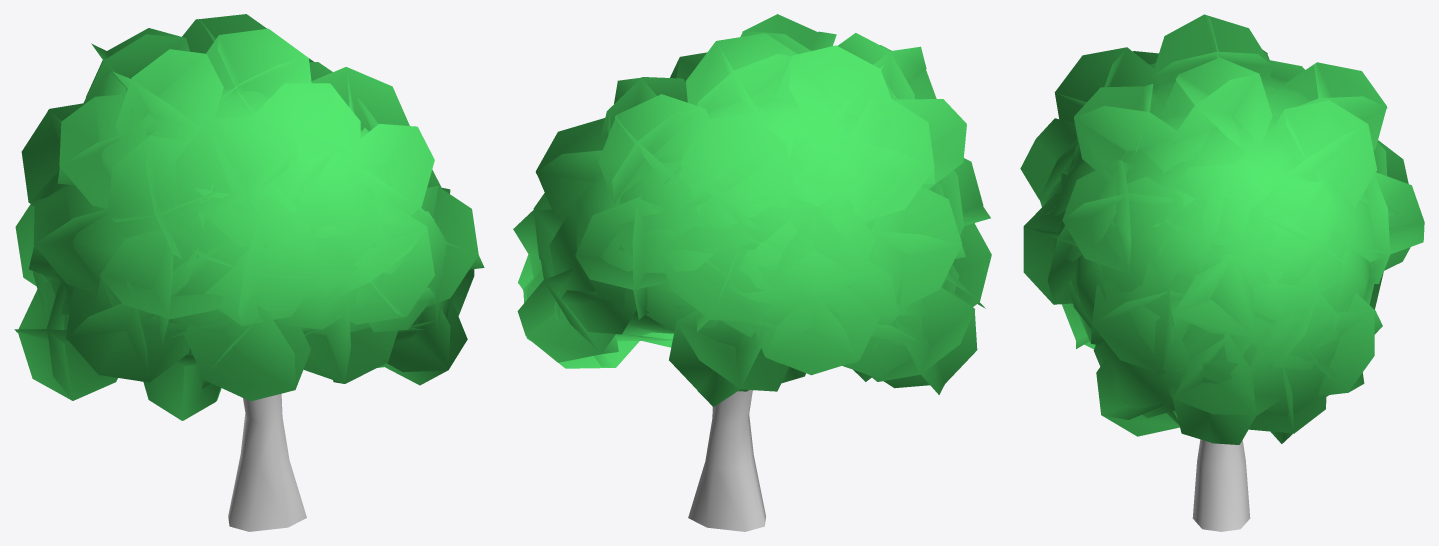
The model's file is Oak_C_1.fbx.
3 views of the same model, side by side, from view 1: azimuth 30°, elevation 25°; view 2: azimuth 150°, elevation 25°; view 3: azimuth 270°, elevation 25° (orthographic). The views are drawn at different scales.
Visible parts, largest first — view 1: Oak_C_1; view 2: Oak_C_1; view 3: Oak_C_1.
Boxes of the visible parts, bbox=[...] form: Oak_C_1: bbox=[14, 14, 484, 531]; Oak_C_1: bbox=[513, 14, 991, 531]; Oak_C_1: bbox=[1020, 14, 1424, 531].
Size of the model in its own units: 10.26 by 10.94 by 8.86.
